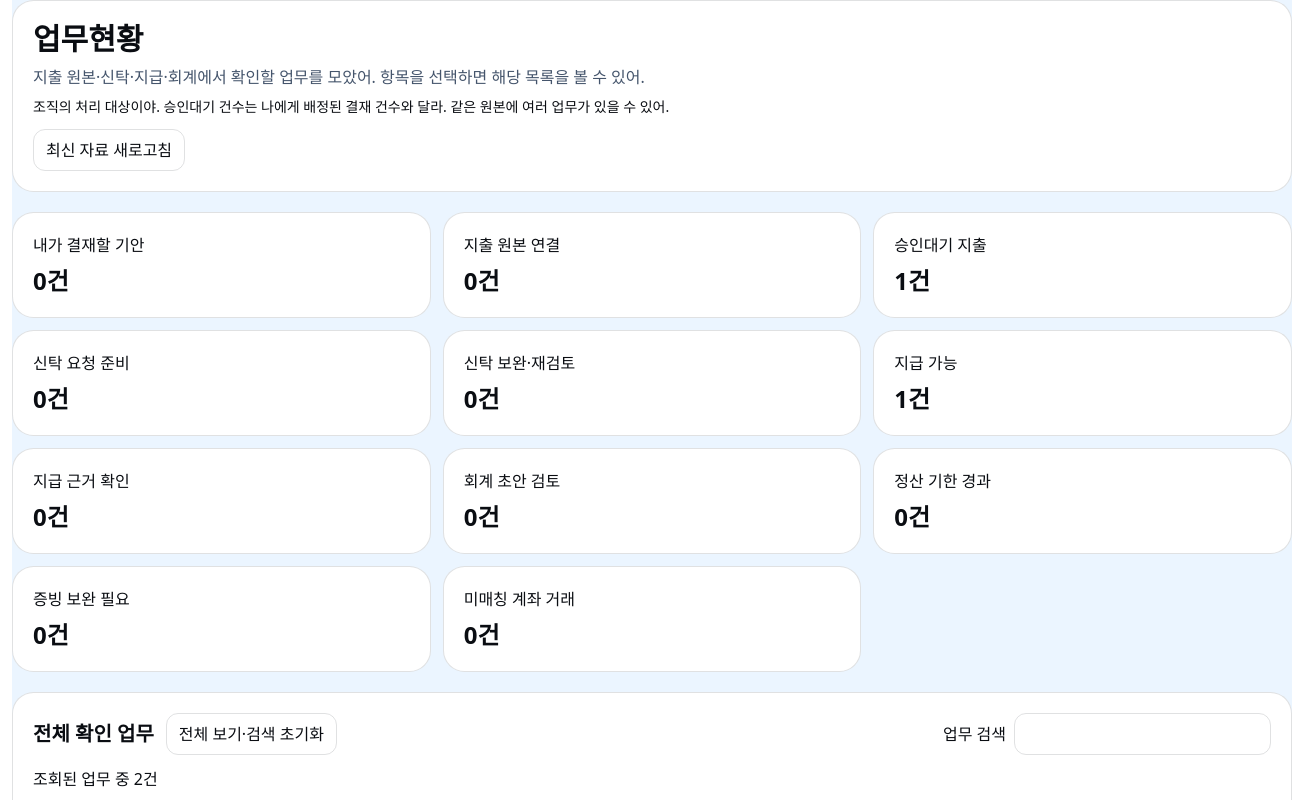
Test: finance task dashboard › filters card counts and actual list together, preserves a link and resets
Step 1. Click the button "지급 가능 1건" → [926, 363], box x1=873 y1=330 x2=1292 y2=436
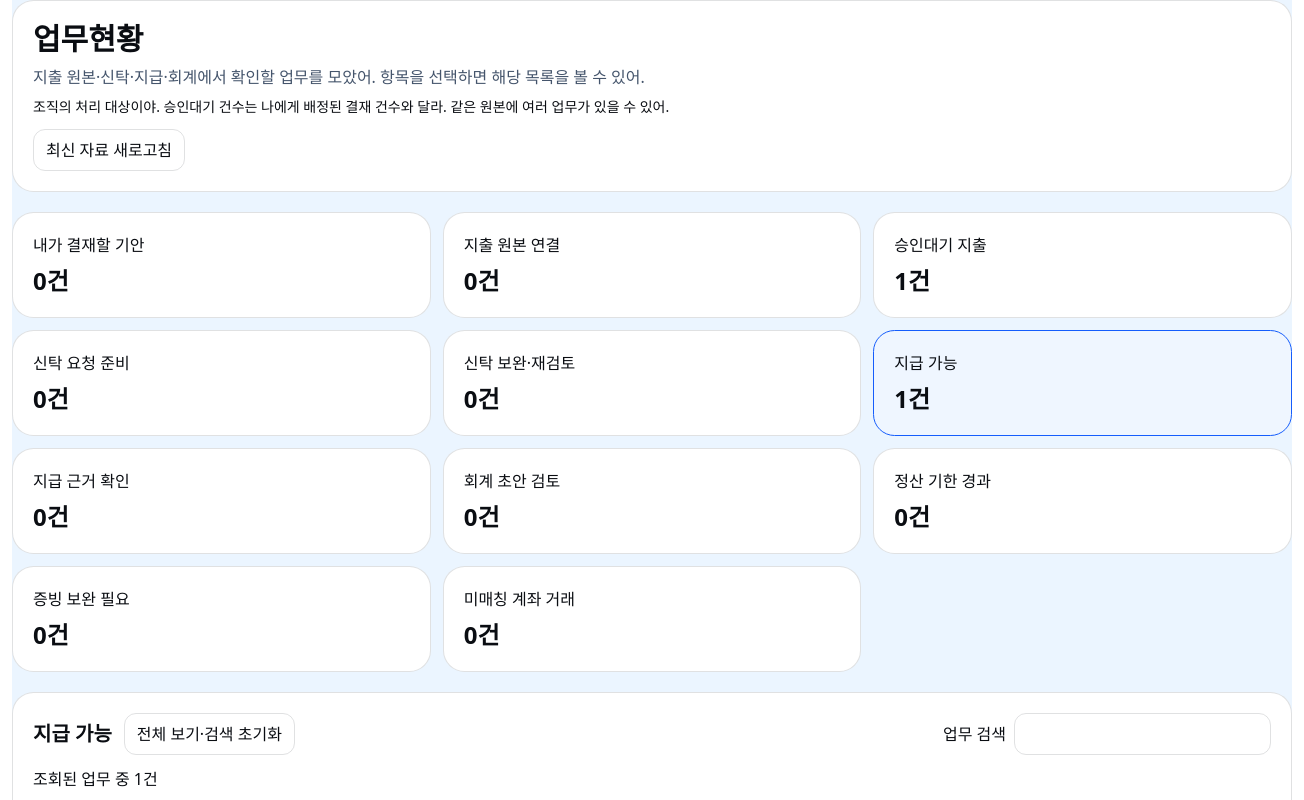
expect the text "조회된 업무 중 1건" is shown: met, box x1=33 y1=768 x2=158 y2=790
Step 2. Type "없는 업무" into the field labelled "업무 검색" → [1142, 734], box x1=1014 y1=713 x2=1271 y2=755
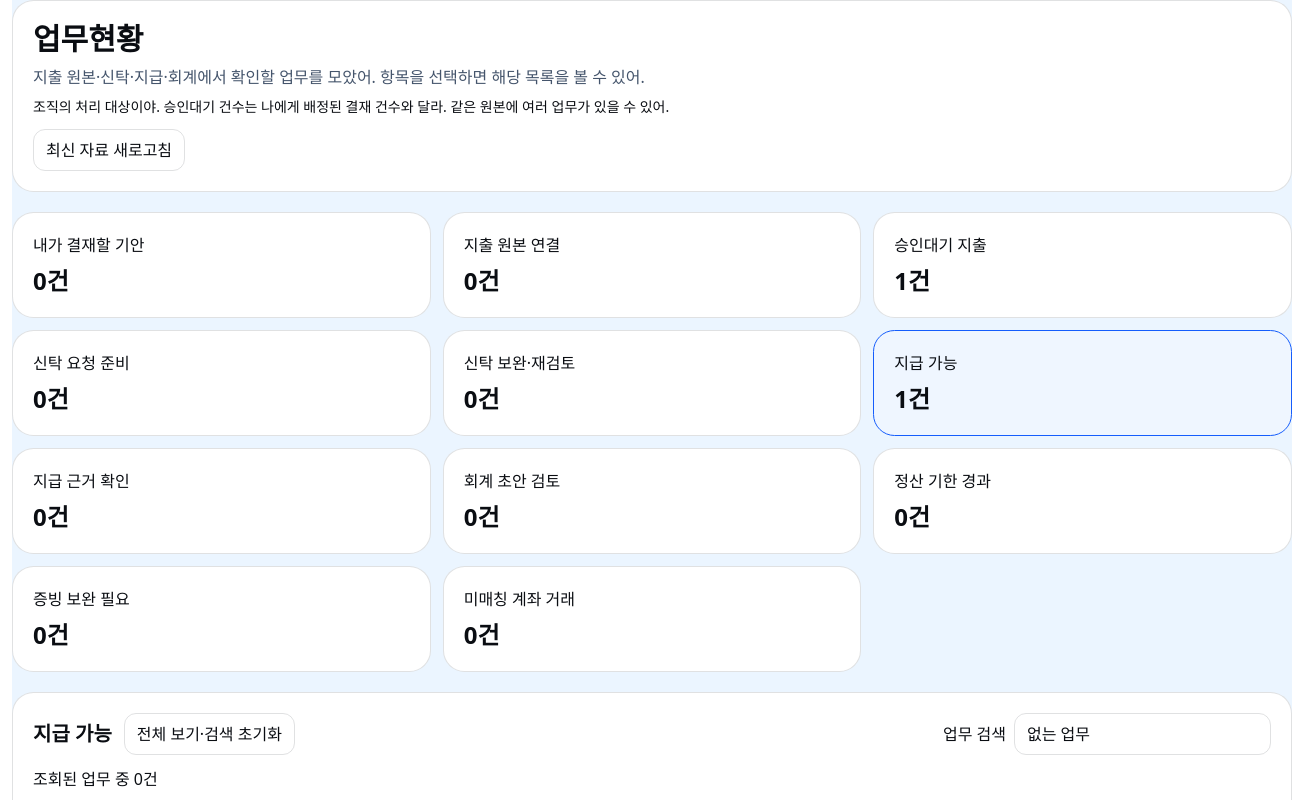
expect the text "조회된 업무 중 0건" is shown: met, box x1=33 y1=768 x2=158 y2=790
Step 3. Click the button "전체 보기·검색 초기화" → [209, 734], box x1=124 y1=713 x2=295 y2=755
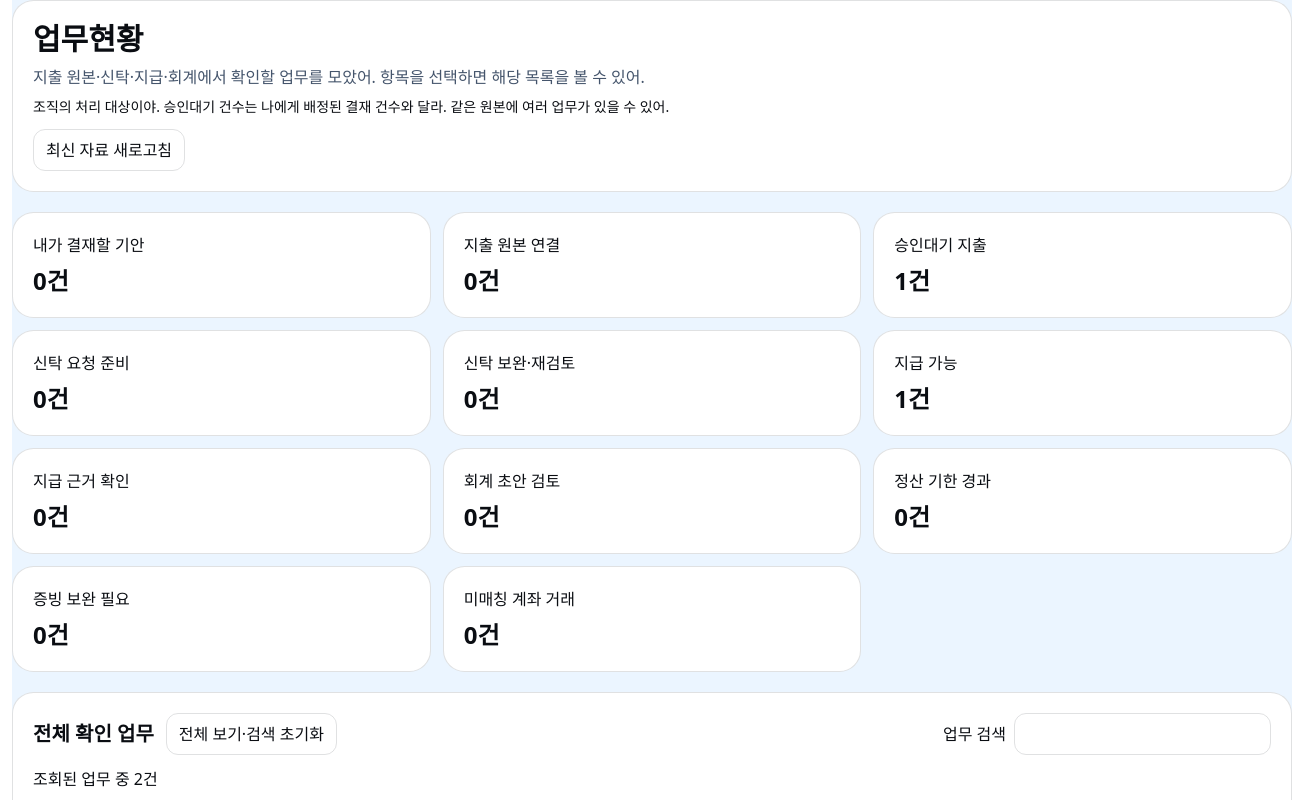
expect the text "조회된 업무 중 2건" is shown: met, box x1=33 y1=768 x2=158 y2=790
